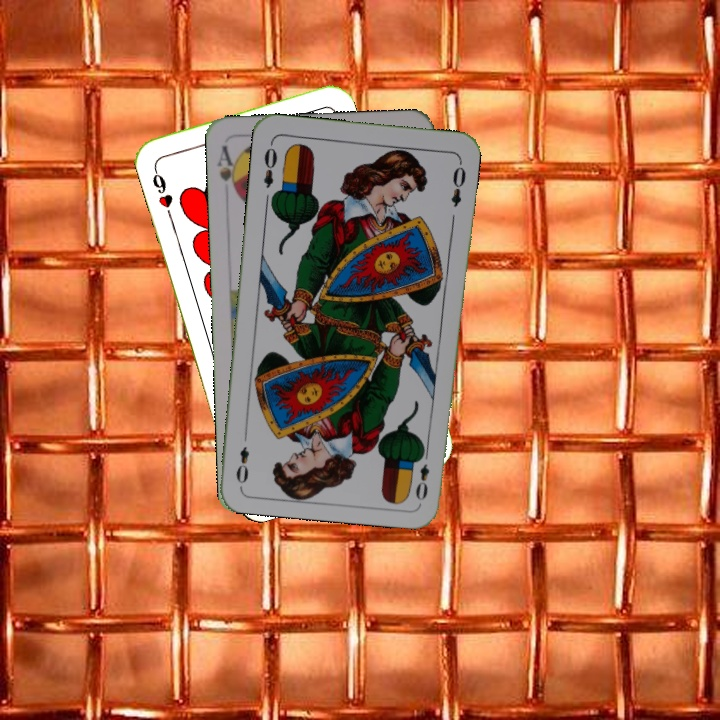EO: (412, 444, 432, 504), (259, 138, 280, 191)
H9: (148, 162, 175, 220)
SA: (213, 141, 242, 200)
